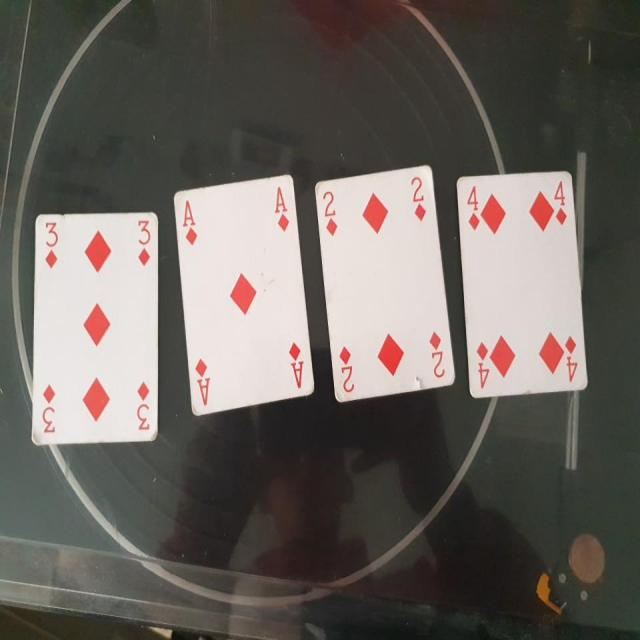2 Diamonds: (312, 157, 461, 408)
3 Diamonds: (25, 207, 165, 448)
4 Diamonds: (452, 164, 591, 399)
A Diamonds: (167, 165, 322, 426)
